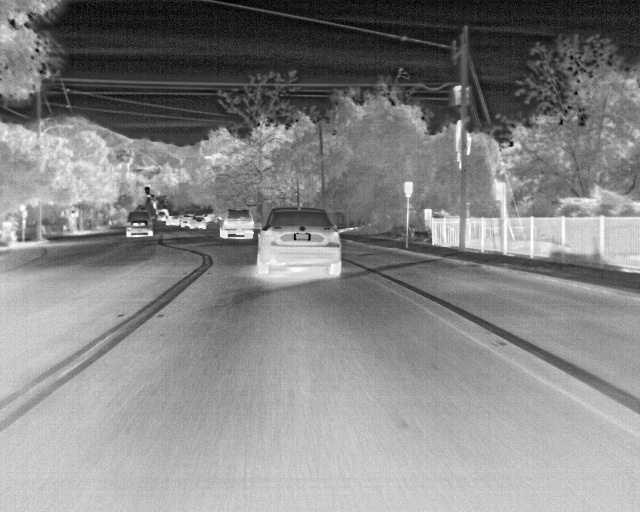vehicle: (258, 208, 342, 276), (219, 210, 255, 239), (125, 211, 155, 238), (188, 217, 206, 230)
